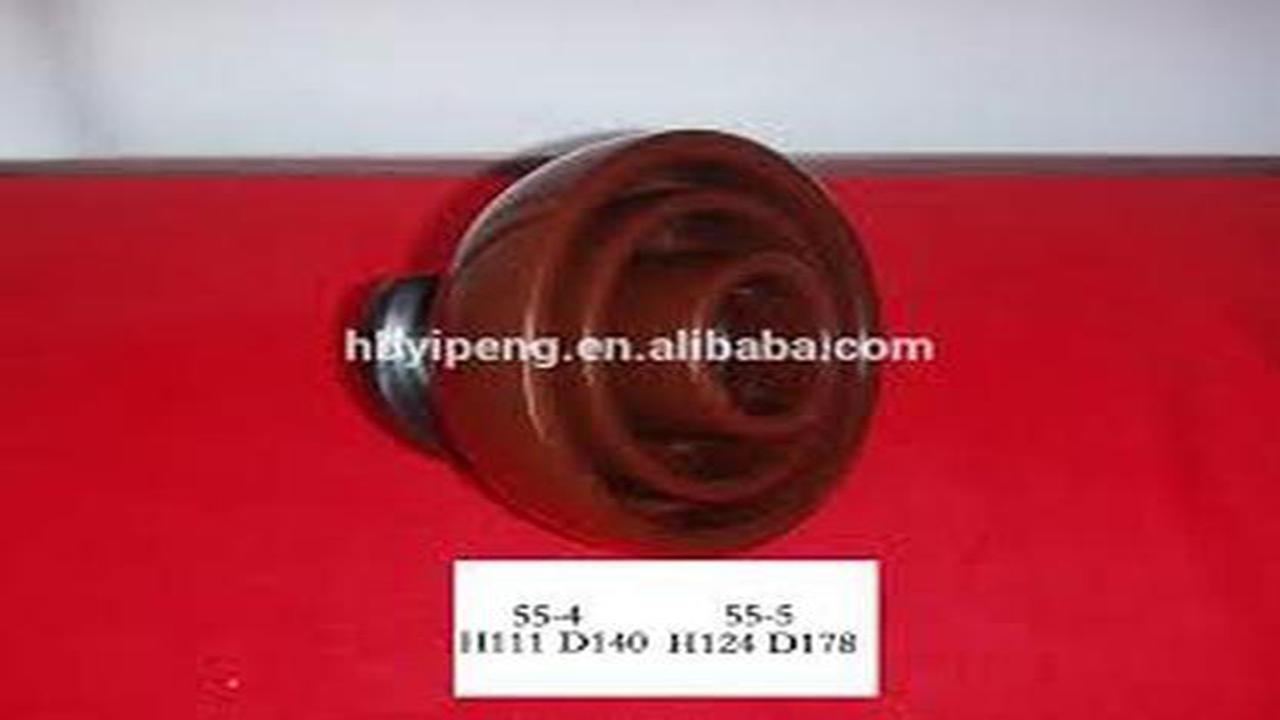insulator_pin: (330, 126, 896, 568)
